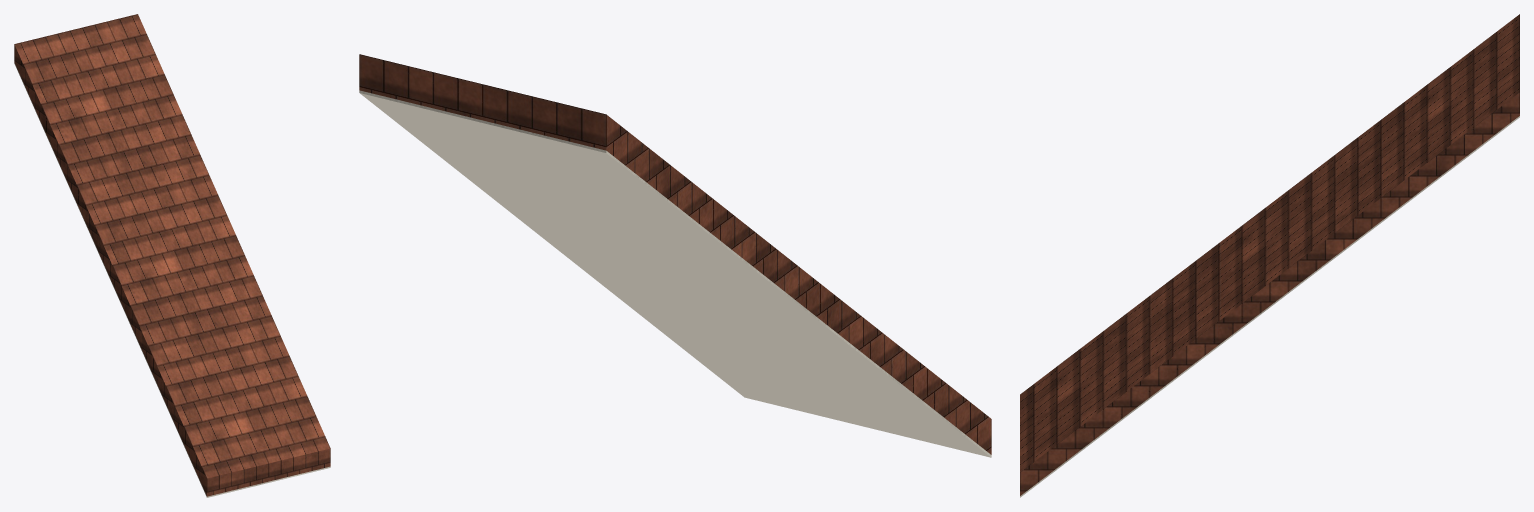
File: roof_slope.glb
The picture shows the model from 3 angles, left to right: view 1: azimuth 30°, elevation 25°; view 2: azimuth 150°, elevation 25°; view 3: azimuth 270°, elevation 25°; orthographic projection. The views are drawn at different scales.
Visible parts, largest first — view 1: roof_slope_roof_tiles, roof_slope_plaster; view 2: roof_slope_plaster, roof_slope_roof_tiles; view 3: roof_slope_roof_tiles, roof_slope_plaster.
Part boxes in pixels (x1,y1,x2,y2): roof_slope_roof_tiles: [14, 14, 330, 496]; roof_slope_plaster: [14, 63, 330, 497]; roof_slope_plaster: [359, 90, 991, 457]; roof_slope_roof_tiles: [359, 54, 991, 454]; roof_slope_roof_tiles: [1020, 14, 1519, 495]; roof_slope_plaster: [1020, 116, 1519, 497].
Bounding box in the file's own units: 2 × 4.84 × 5.4.
Materials: 2 (2 with a texture image).
